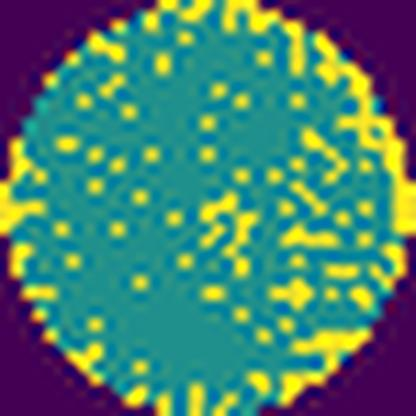Edge-Loc: (312, 31, 415, 235), (275, 325, 377, 407), (226, 0, 304, 81), (0, 134, 51, 235)
